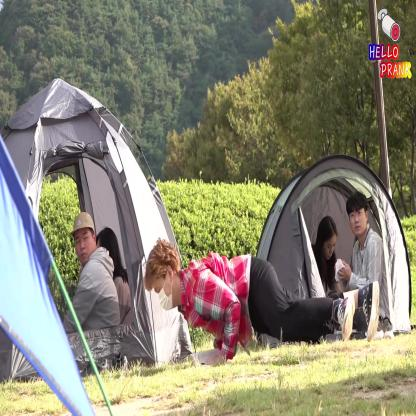Fall_Down: (142, 244, 383, 372)
